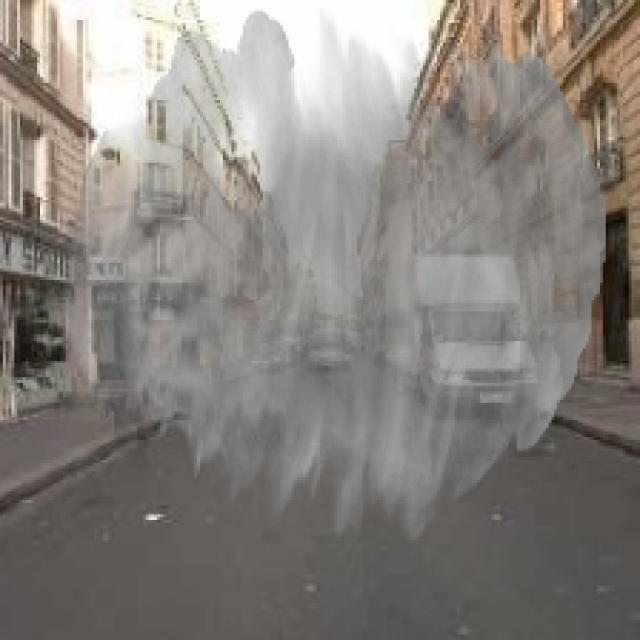smoke: (63, 9, 606, 552)
